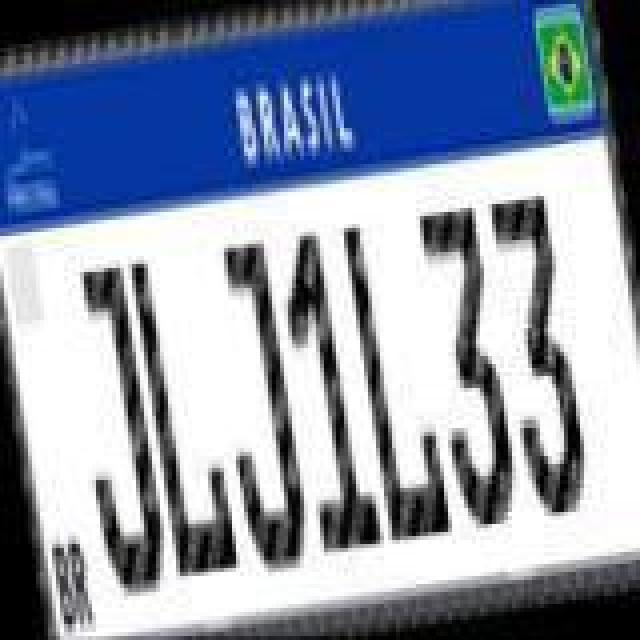1: (270, 222, 386, 558)
3: (478, 188, 594, 524), (406, 200, 522, 532)
J: (58, 260, 174, 604), (198, 234, 314, 578)
L: (126, 246, 242, 582), (338, 214, 454, 550)
